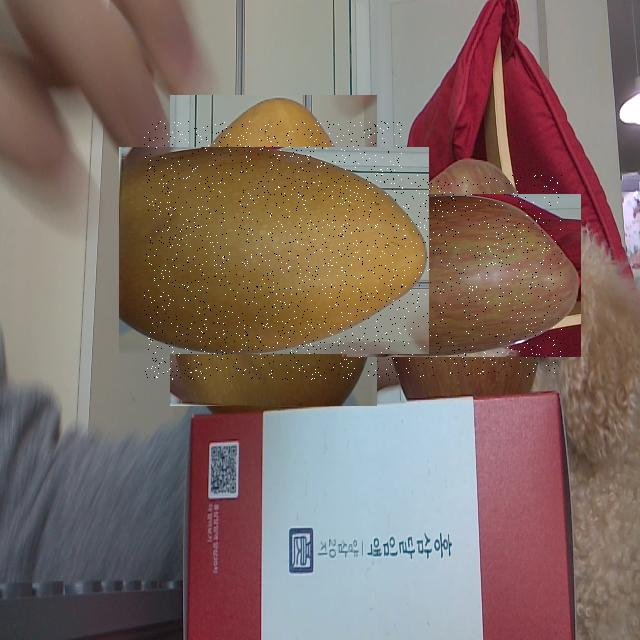apple: (361, 175, 562, 377)
pear: (144, 121, 403, 380)
